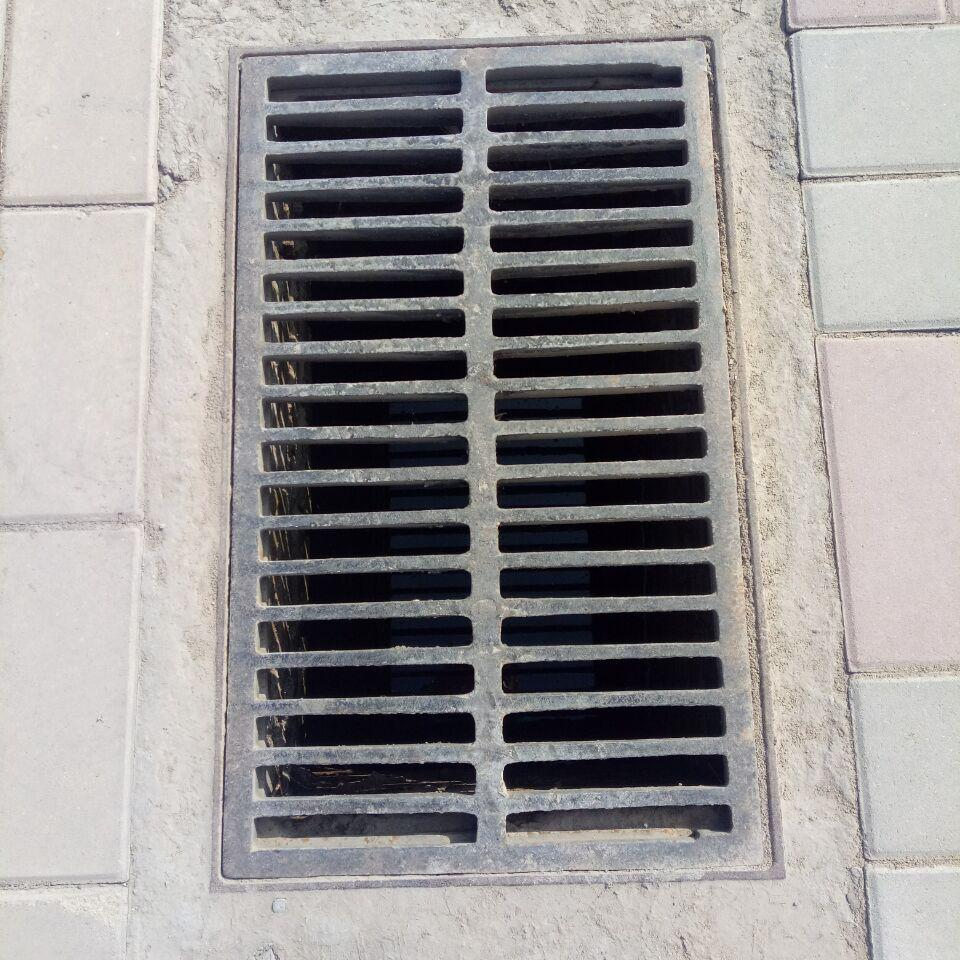wellcover: (187, 14, 813, 927)
